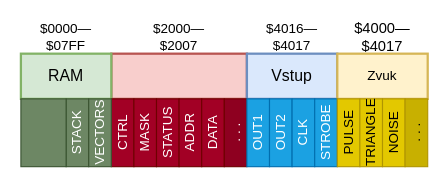
Image size: 447x186. Some labels were removed from this diagram. Here are the shapes that lost their labels. From the top down, the centre of each, then its label:
the point at 178,75: Grafika
the point at 43,132: MEMORY
